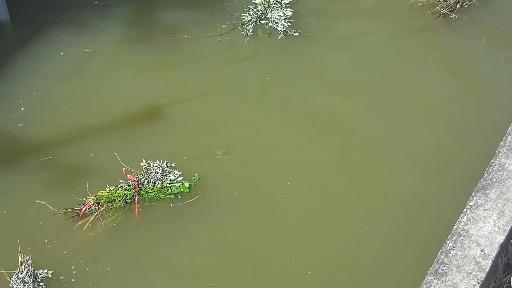twig: (45, 150, 200, 234), (199, 0, 309, 44), (0, 238, 60, 288), (411, 0, 482, 26)
